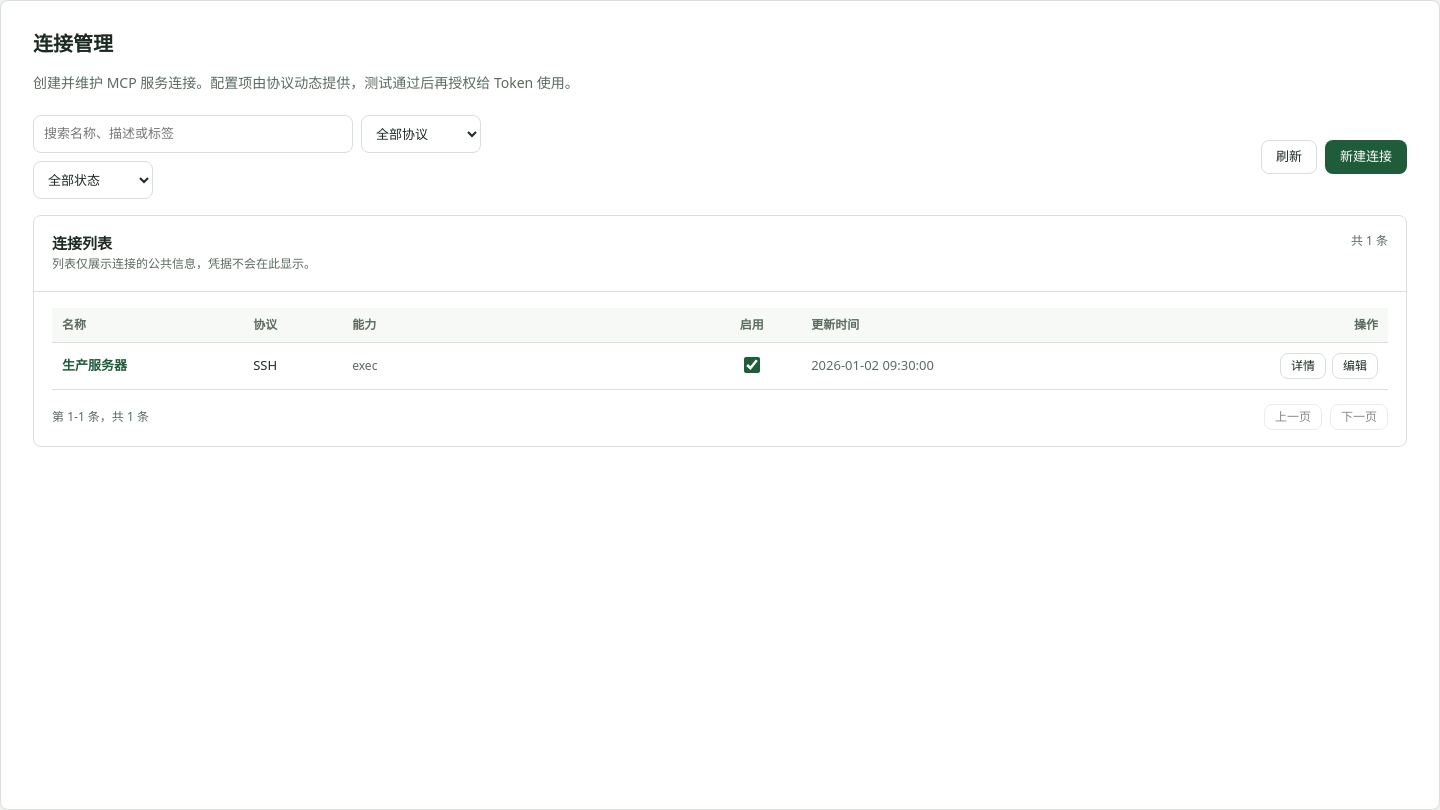
Test case: ConnectionsPage › 删除连接需要二次确认
Click the button "生产服务器" at (94, 366), box [62, 356, 127, 376]
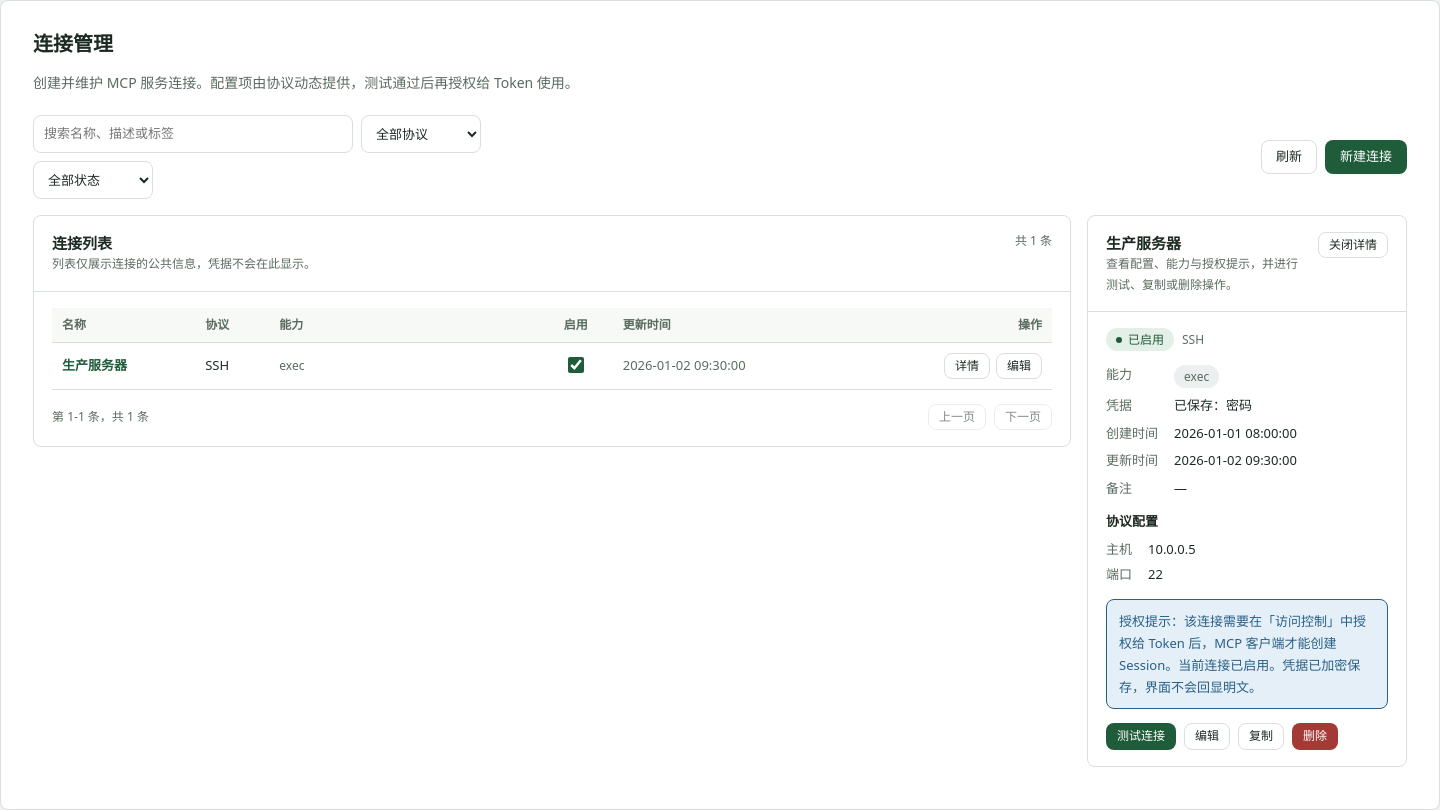
Now the heading "生产服务器" is shown, box [1106, 233, 1181, 253]
Now the text "已保存：密码" is shown, box [1174, 396, 1252, 414]
Click the button "删除" at (1315, 736), box [1292, 723, 1338, 750]
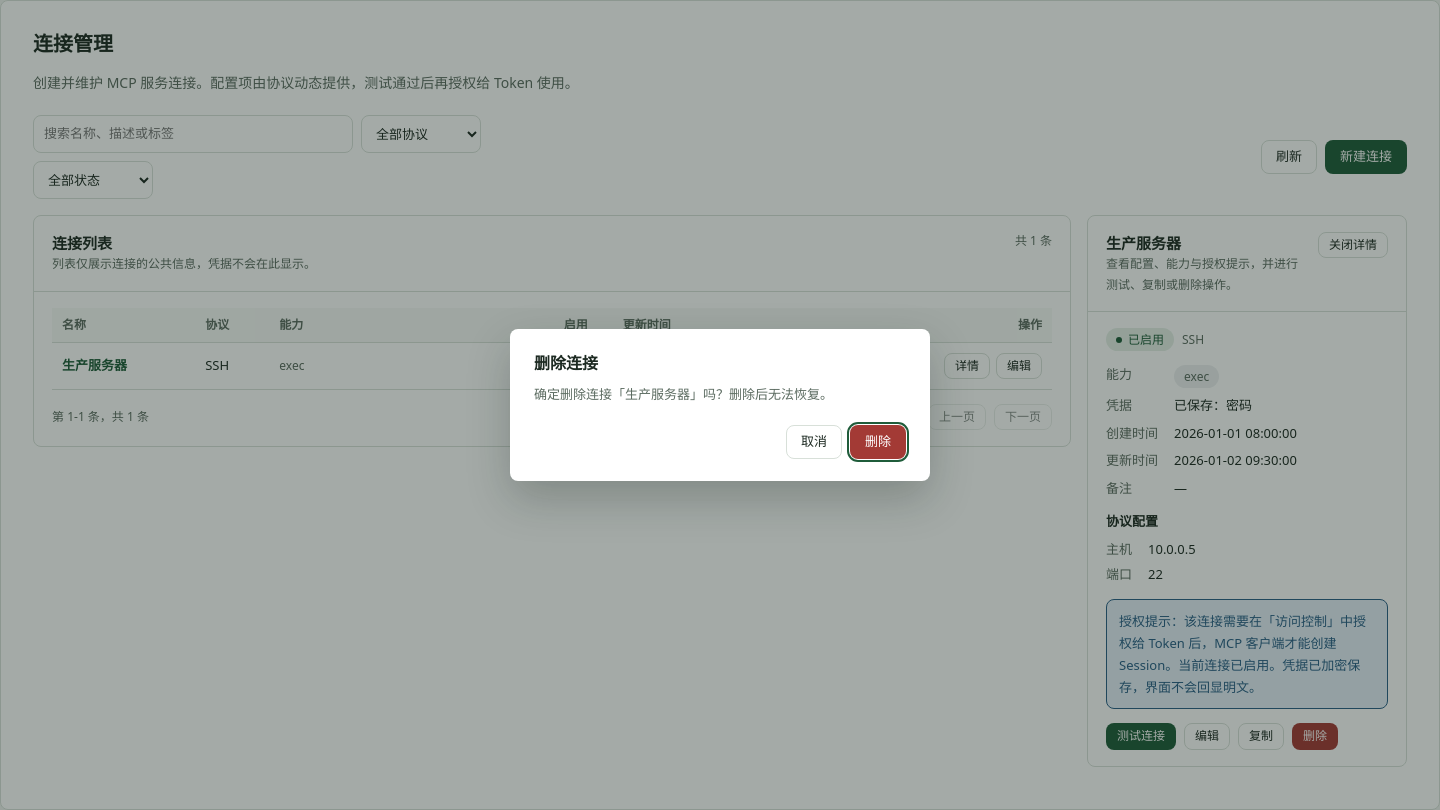
Click the button "删除" at (878, 442), box [850, 425, 906, 459]
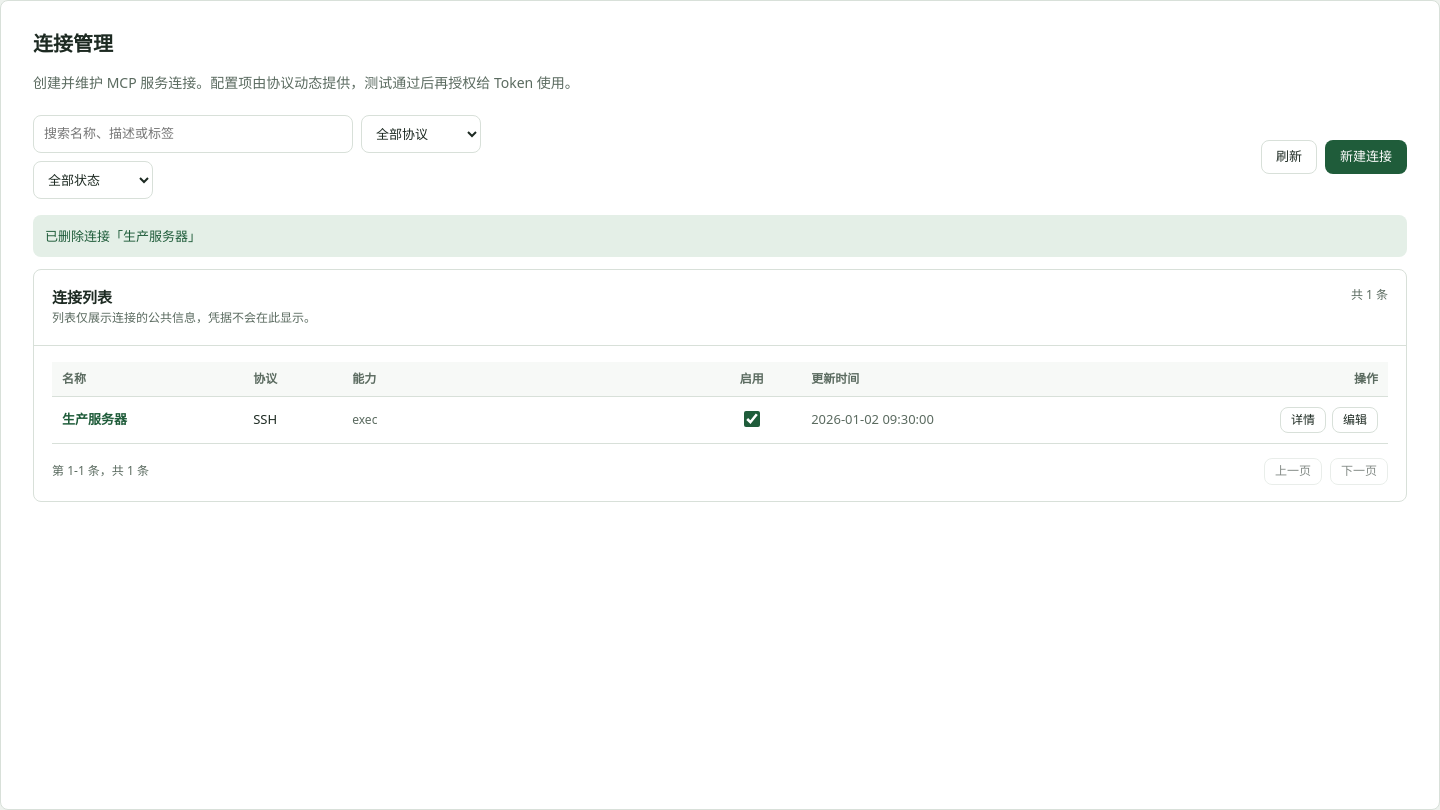
Now the text "已删除连接「生产服务器」" is shown, box [33, 215, 1407, 257]
